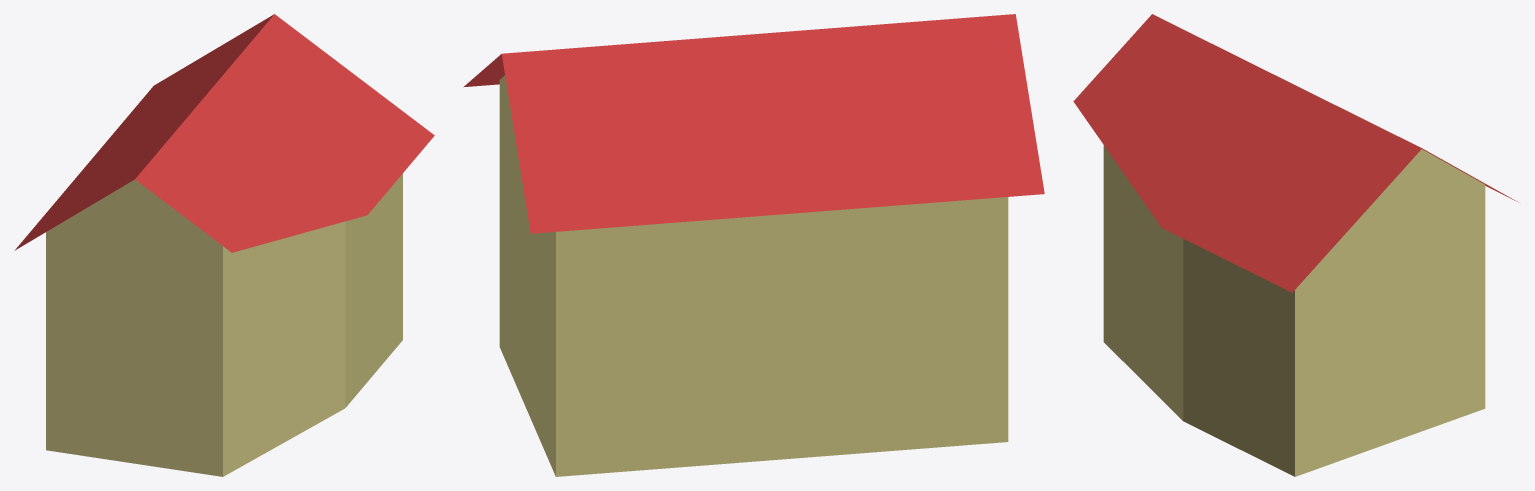
3 renders of one model, left to right at view 1: azimuth 30°, elevation 25°; view 2: azimuth 150°, elevation 25°; view 3: azimuth 270°, elevation 25°, orthographic. The views are drawn at different scales.
Bounding box in the file's own units: 20.47 × 17.88 × 13.09.
